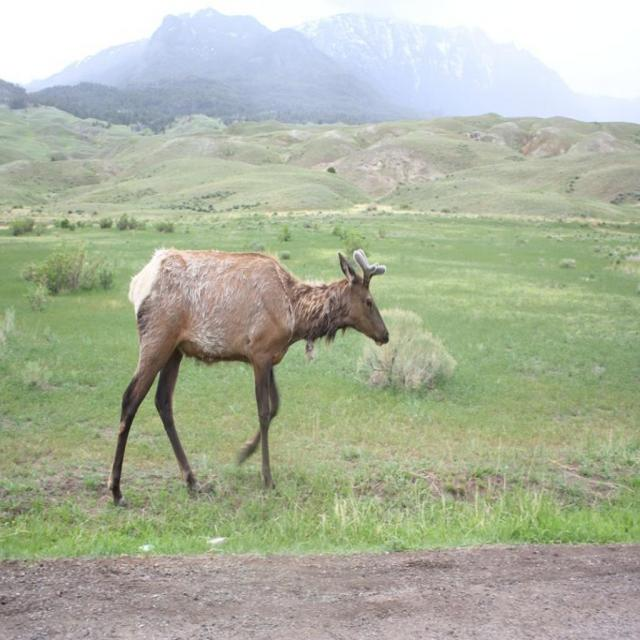Deer: (110, 252, 388, 508)
